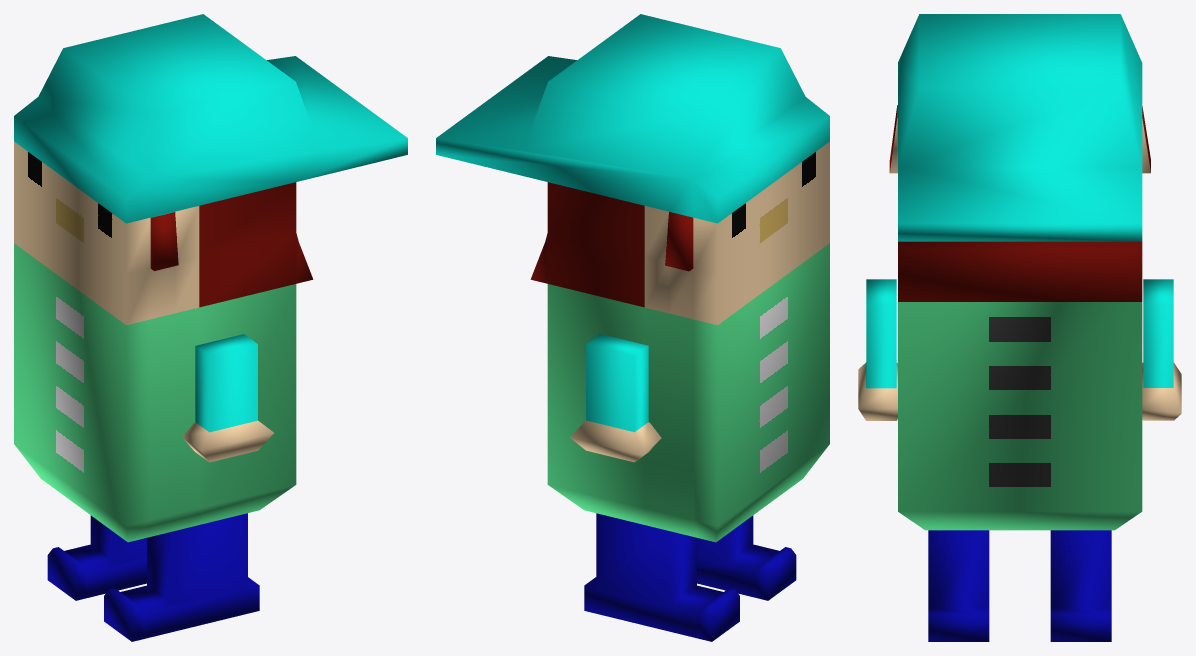
File: Player_2.fbx
3 views of the same model, side by side, from view 1: azimuth 30°, elevation 25°; view 2: azimuth 150°, elevation 25°; view 3: azimuth 270°, elevation 25° (orthographic). The views are drawn at different scales.
Visible parts, largest first — view 1: Main, LeftFoot, LeftHand, RightFoot; view 2: Main, RightFoot, RightHand, LeftFoot; view 3: Main, LeftFoot, RightFoot, RightHand, LeftHand.
Boxes of the visible parts, box(x1,y1,x2,y2) form: Main: box(14, 14, 407, 542); LeftFoot: box(104, 513, 259, 641); LeftHand: box(182, 334, 273, 462); RightFoot: box(47, 515, 146, 600); Main: box(436, 14, 829, 542); RightFoot: box(584, 513, 739, 641); RightHand: box(570, 334, 661, 462); LeftFoot: box(697, 515, 796, 600); Main: box(889, 14, 1150, 530); LeftFoot: box(928, 530, 989, 641); RightFoot: box(1050, 530, 1111, 641); RightHand: box(1142, 279, 1181, 420); LeftHand: box(858, 279, 897, 420).
Bounding box in the file's own units: 0.1159 × 0.1059 × 0.2061.
